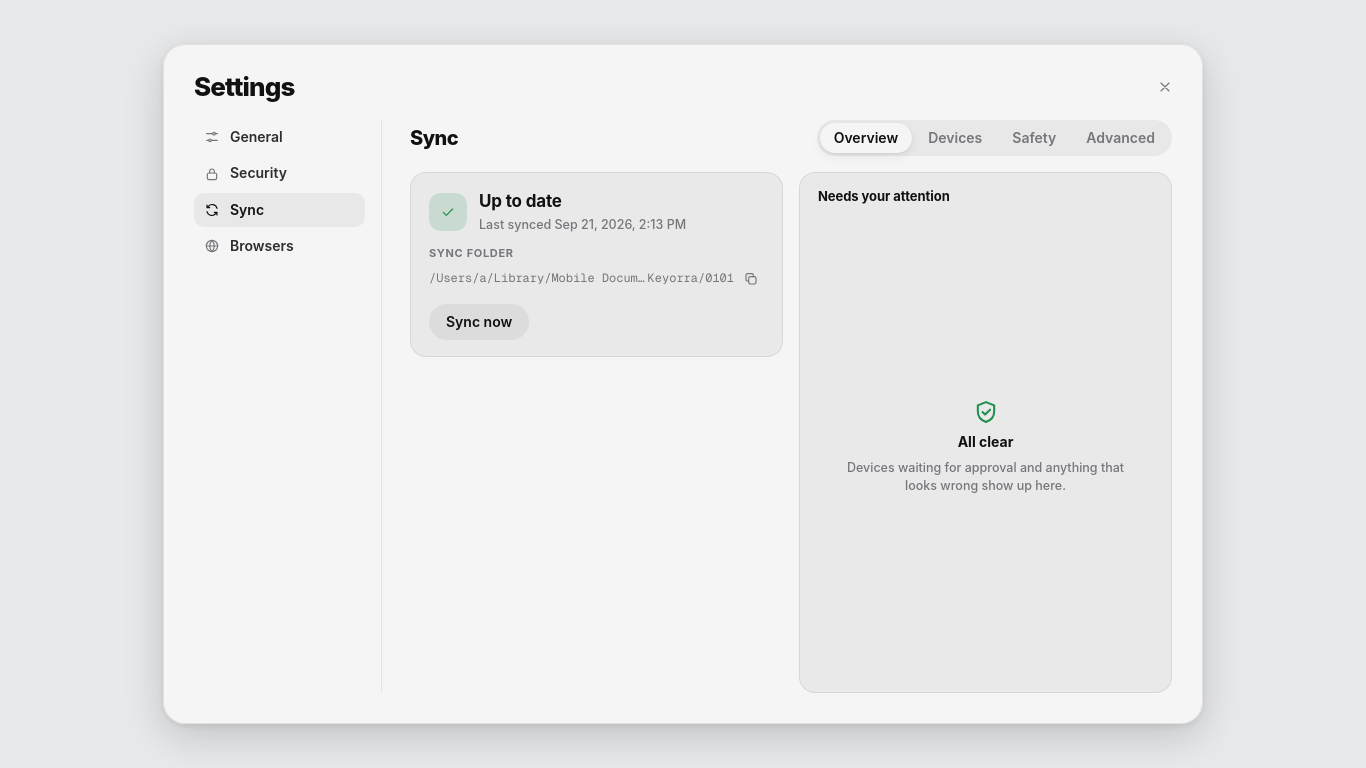
Test: verify, folder files and the log
Click the tab "Safety": (1034, 138) [998,123,1070,154]
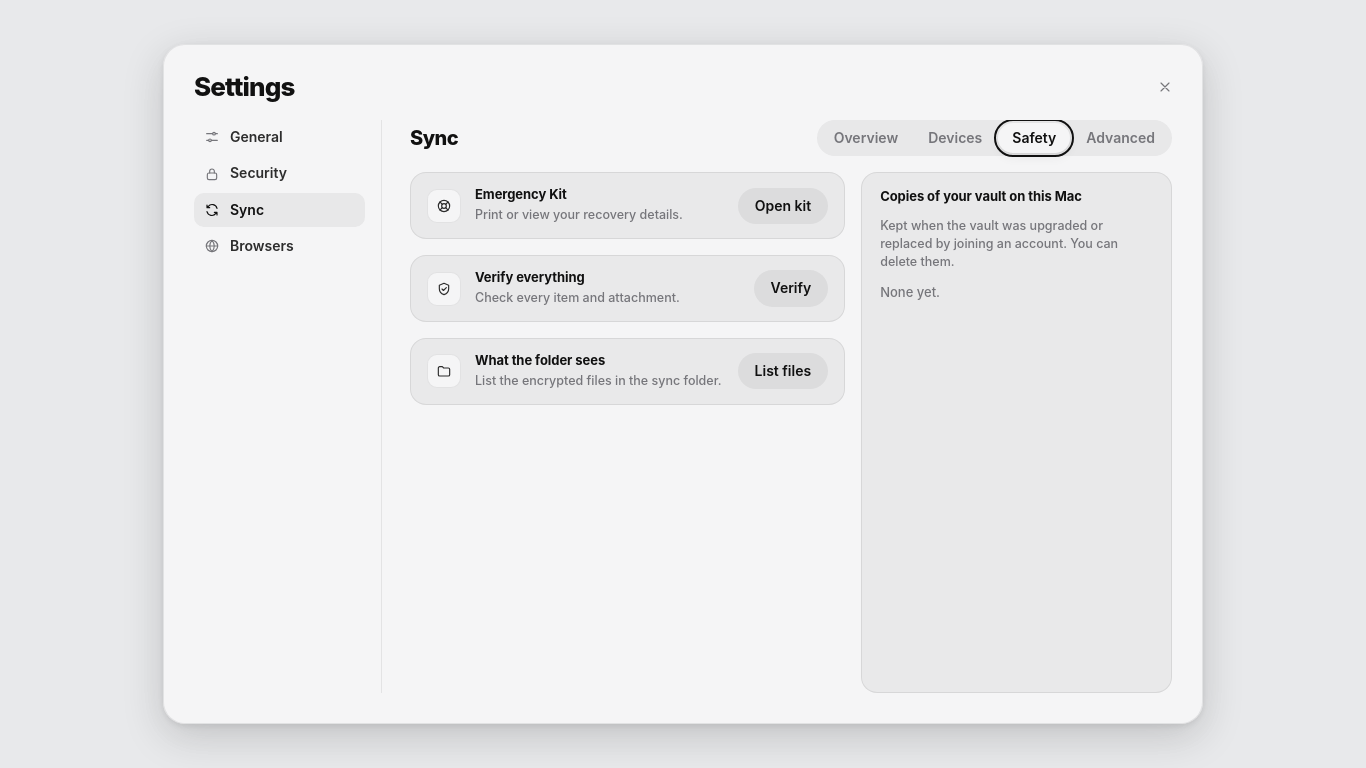
Click the button "Verify": (791, 289) [754,270,828,307]
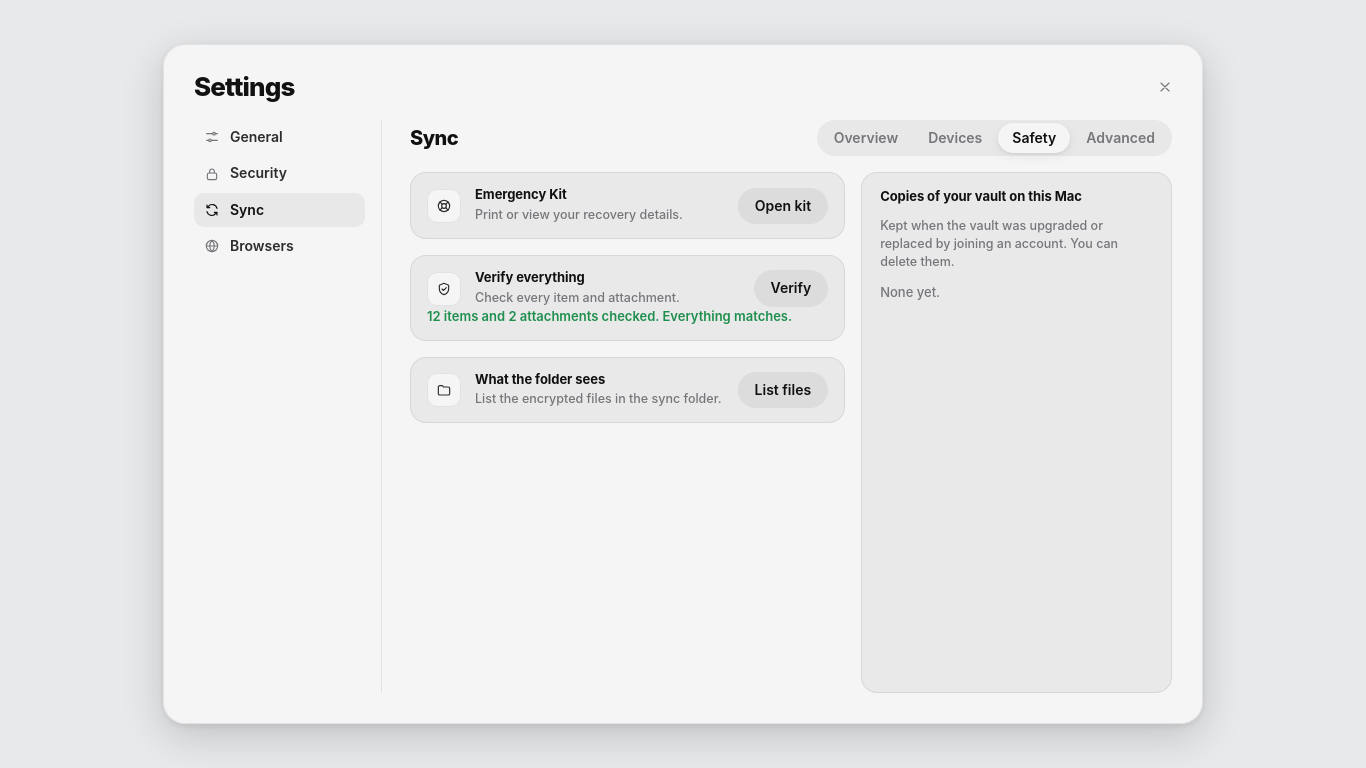
Now the message named "Verify" reads "12 items and 2 attachments checked. Everything matches.", box [427,307,828,326]
Click the button "List files": (783, 390) [738,372,828,408]
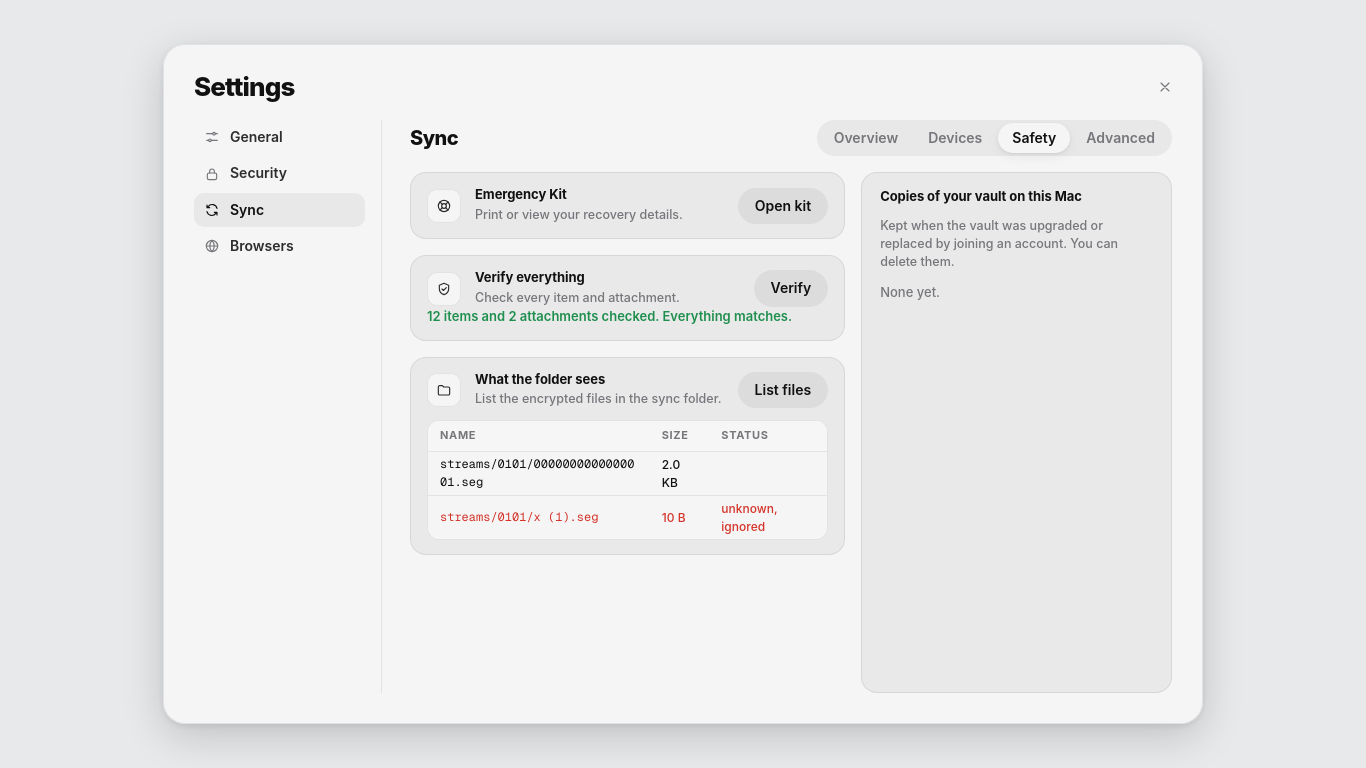
Now the text "2.0 KB" is shown, box [650,452,709,496]
Now the text "unknown, ignored" is shown, box [709,496,827,539]
Click the tab "Advanced": (1121, 138) [1072,123,1169,154]
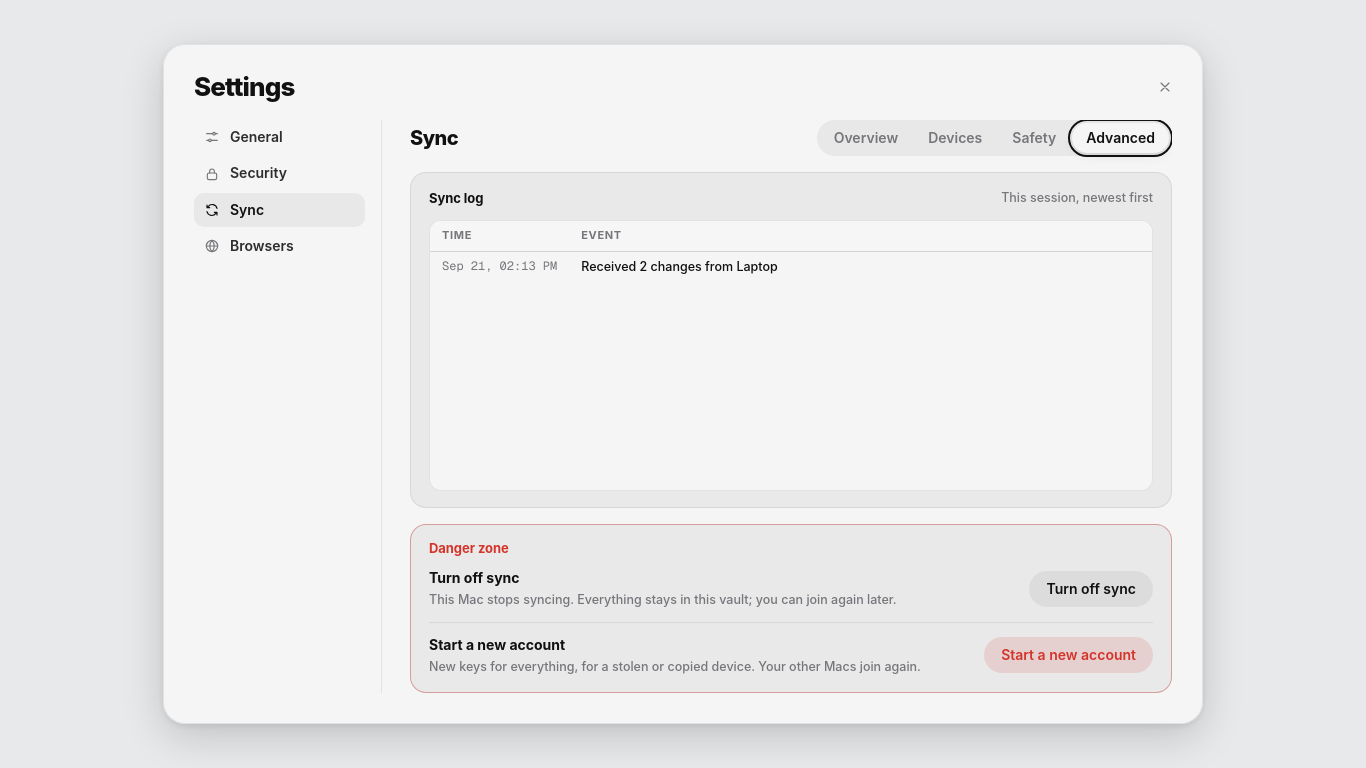
Now the text "Received 2 changes from Laptop" is shown, box [569,251,1152,282]
